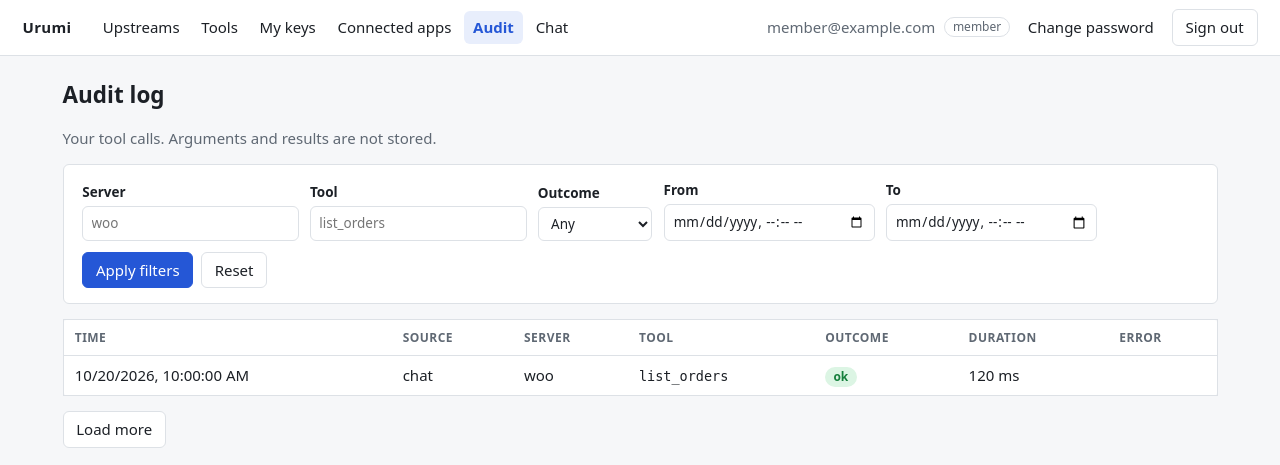
Test: audit page › "Load more" requests the next page with nextCursor and appends it
Check: the text "list_orders" is shown, box left=639, top=368, right=728, bottom=384
Click the button "Load more".
click(114, 429)  # box left=62, top=411, right=166, bottom=448
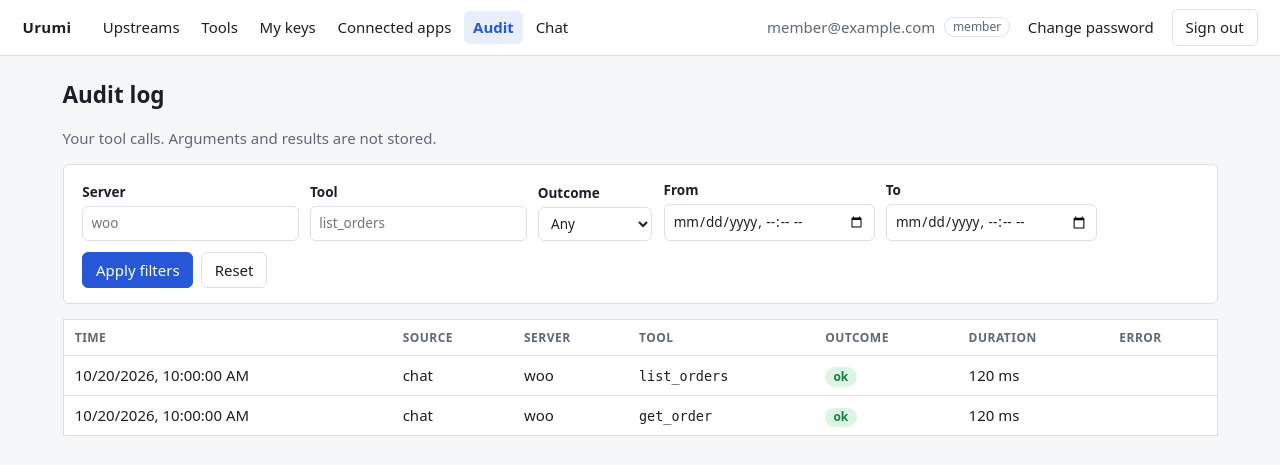
Check: the text "list_orders" is shown, box left=639, top=368, right=728, bottom=384
Check: the text "get_order" is shown, box left=639, top=408, right=712, bottom=424
Check: the button "Load more" is gone
